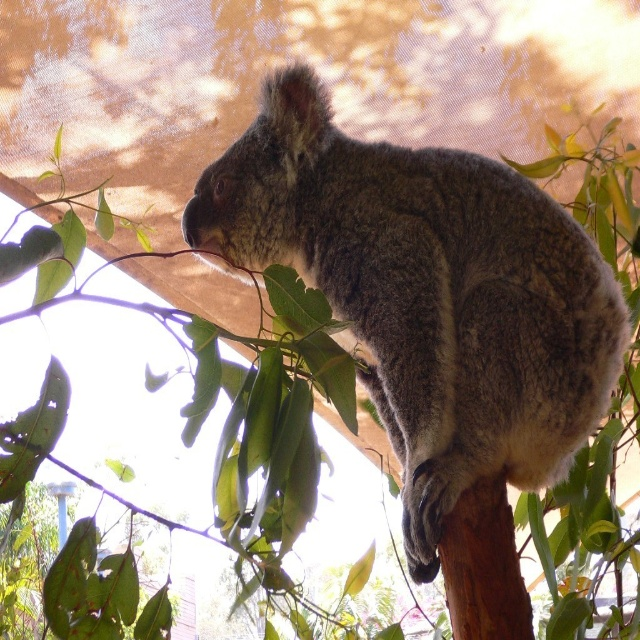Koala: (180, 62, 630, 581)
